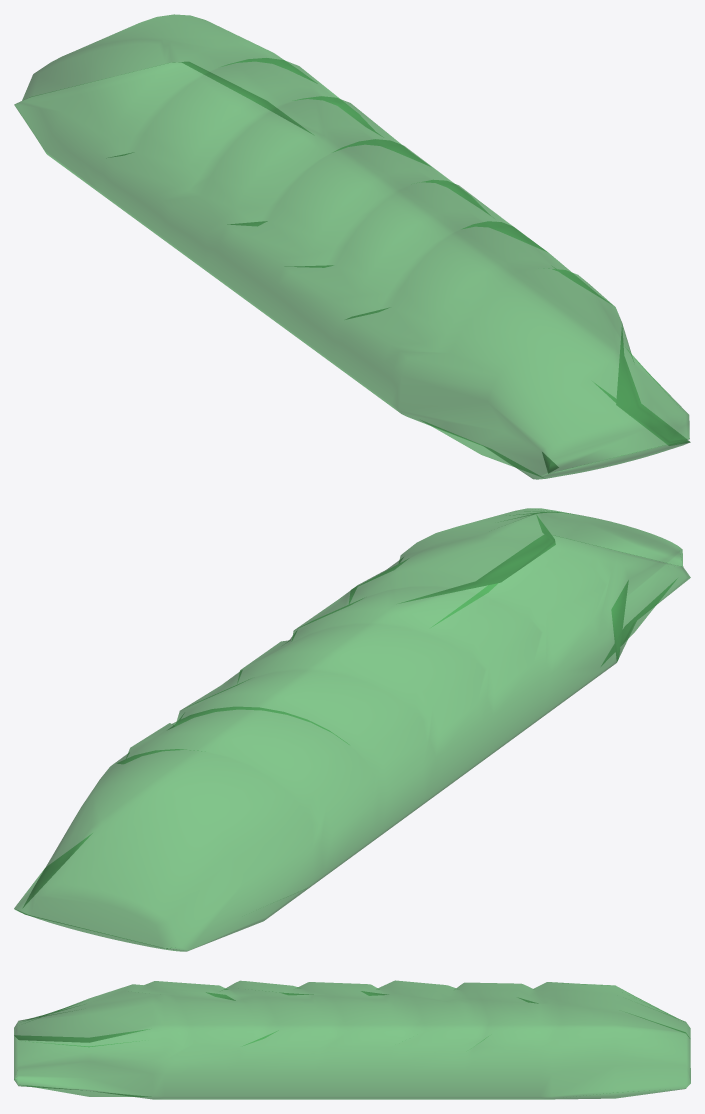
The model's file is Goated baguette.fbx.
3 views of the same model, one above another, from view 1: azimuth 30°, elevation 25°; view 2: azimuth 150°, elevation 25°; view 3: azimuth 270°, elevation 25° (orthographic). The views are drawn at different scales.
Visible parts, largest first — view 1: Cylinder; view 2: Cylinder; view 3: Cylinder.
Part boxes in pixels (left/top/right/bottom): Cylinder: left=14, top=14, right=690, bottom=479; Cylinder: left=14, top=508, right=690, bottom=951; Cylinder: left=14, top=980, right=690, bottom=1099.
Size of the model in its own units: 80.32 by 44.43 by 322.
